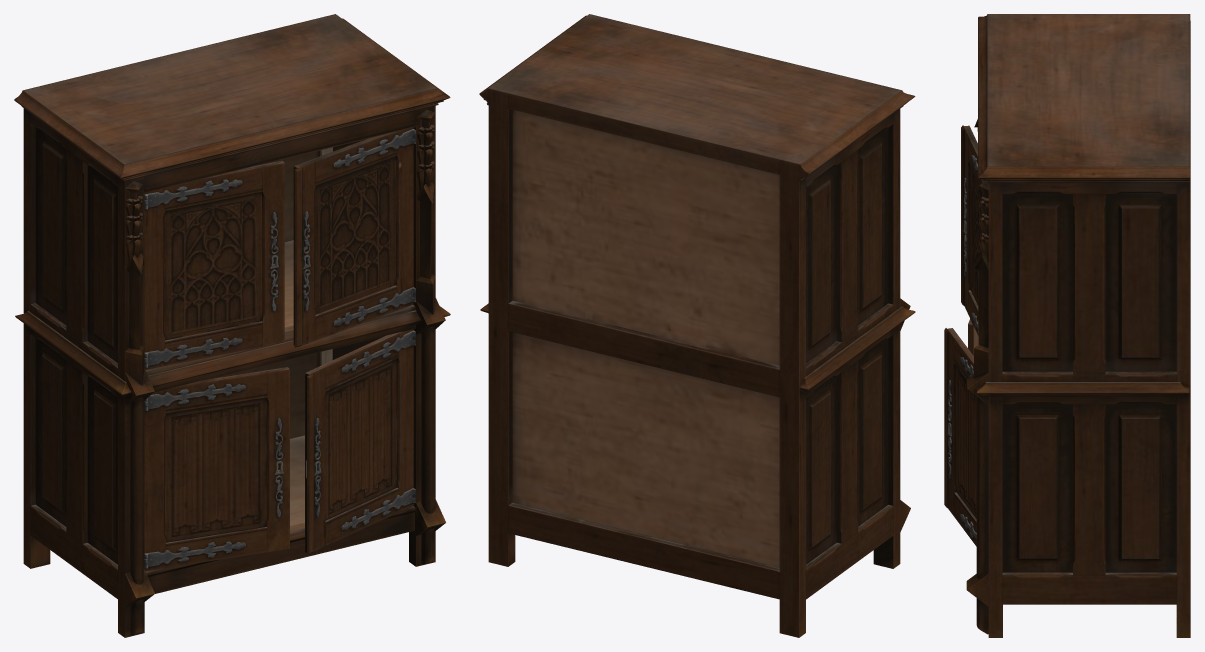
Rendered from GothicCabinet_01.glb.
3 renders of one model, left to right at view 1: azimuth 30°, elevation 25°; view 2: azimuth 150°, elevation 25°; view 3: azimuth 270°, elevation 25°, orthographic.
Visible parts, largest first — view 1: GothicCabinet_01_cabinet; view 2: GothicCabinet_01_cabinet; view 3: GothicCabinet_01_cabinet.
Boxes of the visible parts, <box> form: GothicCabinet_01_cabinet: <box>14,14,450,637</box>; GothicCabinet_01_cabinet: <box>479,14,915,637</box>; GothicCabinet_01_cabinet: <box>944,14,1190,637</box>.
Bounding box in the file's own units: 1.72 × 2.36 × 1.12.
Materials: 1 (1 with a texture image).
